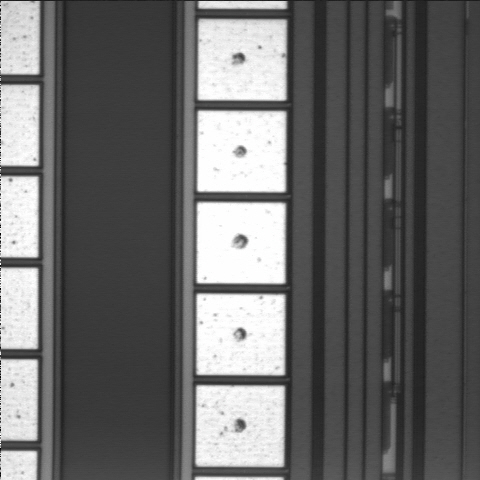pad: (197, 202, 286, 284), (196, 385, 285, 467), (198, 19, 286, 101), (197, 111, 286, 192), (196, 294, 285, 375)
